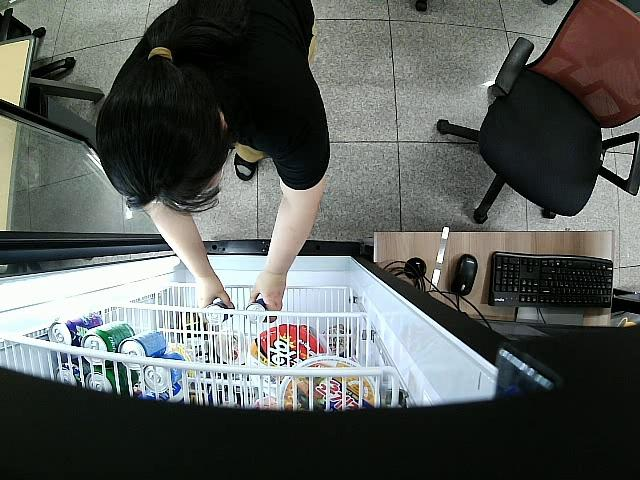00_hand: (245, 274, 285, 320), (197, 278, 234, 309)
16_hot6: (205, 302, 228, 326), (246, 298, 267, 323)
